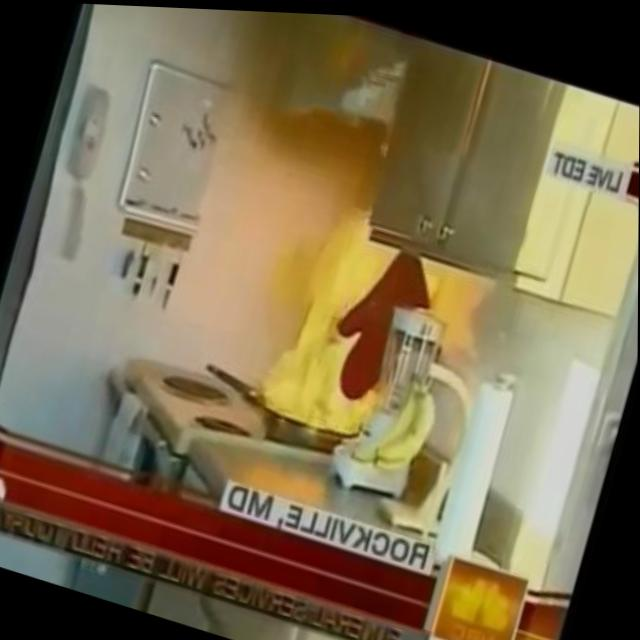fire: (248, 190, 418, 442)
